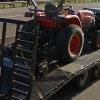Tractor: (23, 2, 100, 67)
